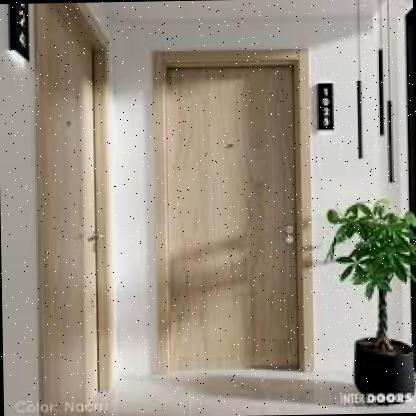door: (150, 42, 316, 376), (20, 1, 118, 416)
